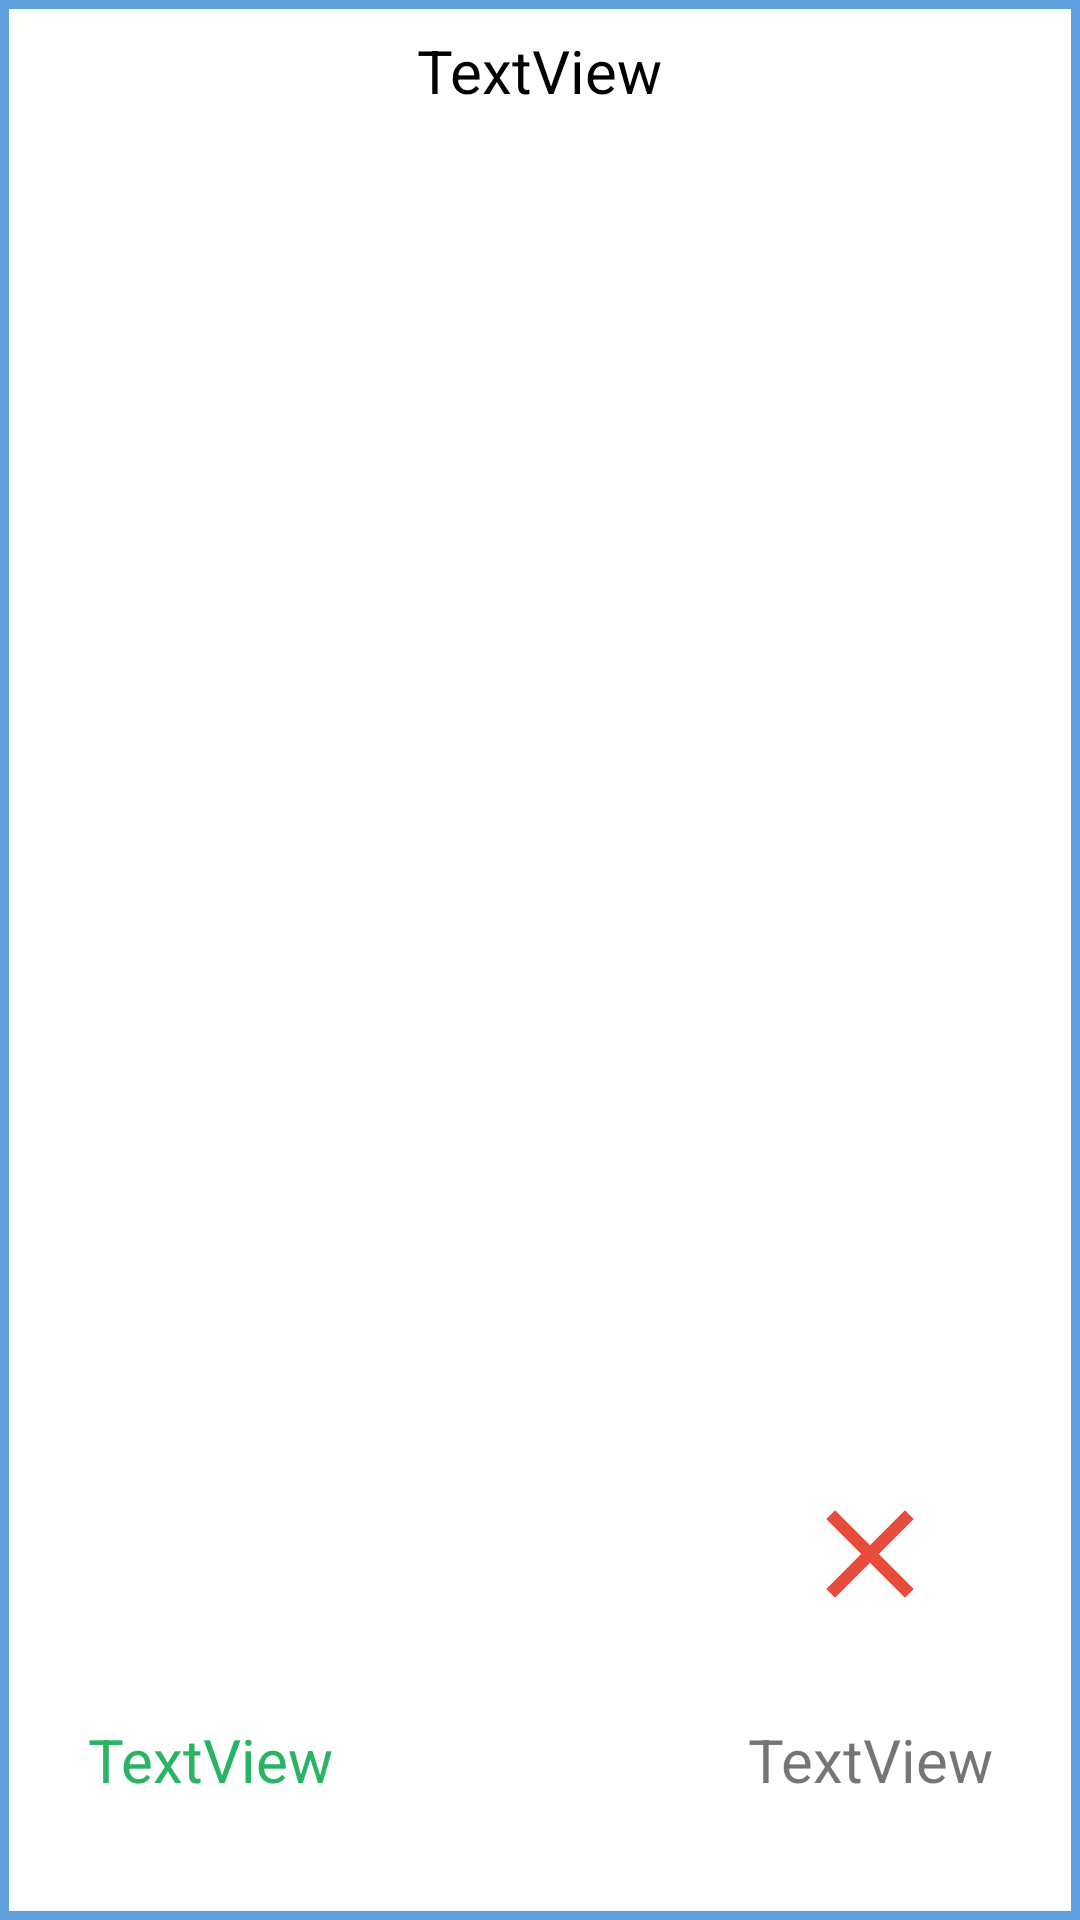

Icon bounding boxes for this 1080*1920 phone screenshot, format (x1, y1, x2, y2):
close: (826, 1510, 914, 1598)
